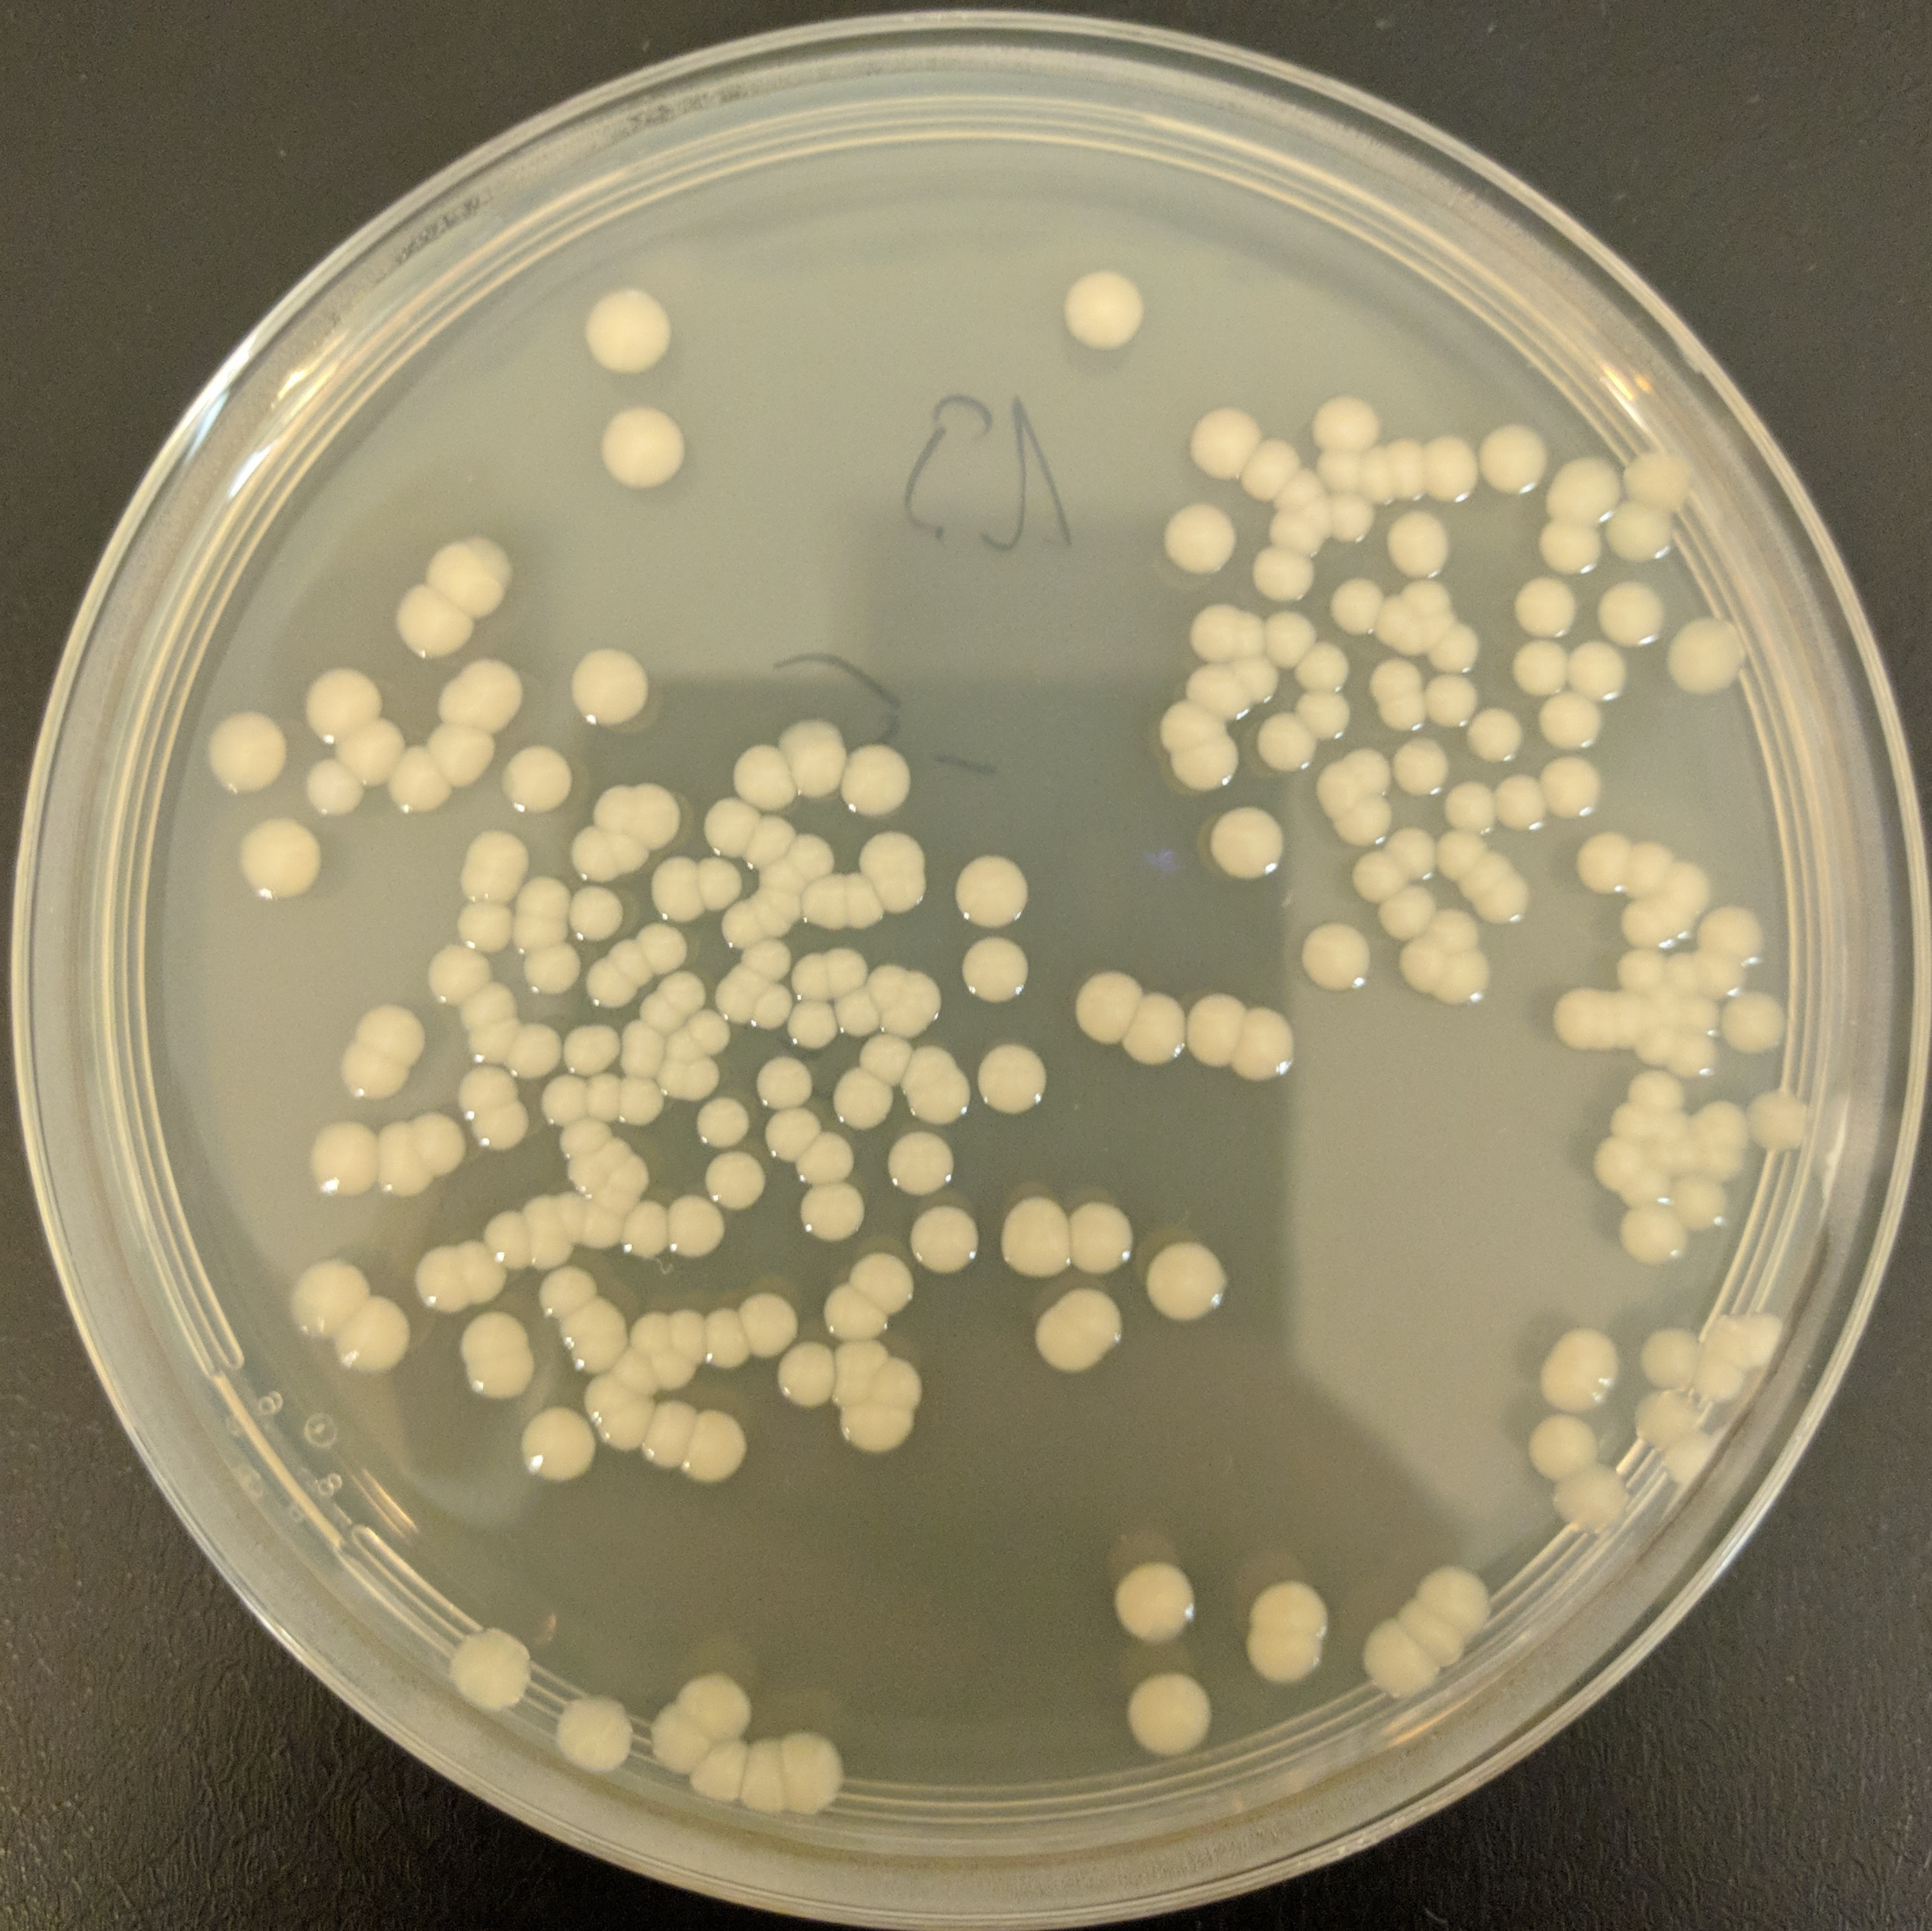sp11: (258, 1248, 387, 1351), (359, 1098, 472, 1210), (553, 633, 670, 739), (1032, 1280, 1142, 1392), (1128, 1220, 1237, 1332), (299, 1112, 391, 1236), (1660, 601, 1766, 707), (576, 283, 688, 384), (498, 1404, 615, 1500), (590, 393, 696, 493), (764, 702, 864, 808), (1206, 792, 1301, 904), (285, 656, 399, 748), (486, 729, 583, 835), (548, 1673, 642, 1782), (992, 1176, 1084, 1287), (1110, 1668, 1220, 1759), (1290, 907, 1393, 1004), (226, 803, 327, 900), (417, 529, 523, 621), (440, 1303, 546, 1395), (444, 1607, 527, 1724), (1055, 256, 1156, 352), (417, 653, 532, 736), (1533, 1321, 1624, 1423), (1110, 1549, 1206, 1646), (767, 1728, 864, 1823), (714, 725, 815, 817), (682, 1390, 769, 1496), (831, 734, 924, 831), (1186, 976, 1260, 1095), (1356, 1607, 1444, 1706), (198, 702, 292, 794), (841, 1234, 933, 1328), (946, 852, 1043, 941), (339, 988, 437, 1077), (1059, 962, 1151, 1054), (548, 1289, 638, 1383), (1241, 1607, 1335, 1696), (1154, 492, 1243, 585), (1584, 569, 1676, 658), (672, 1653, 755, 1751), (691, 1139, 778, 1231), (1379, 716, 1462, 812), (371, 734, 445, 840), (435, 1220, 514, 1319), (969, 1034, 1057, 1123), (1055, 1199, 1142, 1287), (1186, 407, 1274, 493), (1419, 1554, 1502, 1646), (1538, 1448, 1630, 1531), (426, 716, 506, 812), (1474, 419, 1557, 508), (854, 824, 924, 927), (1396, 930, 1471, 1027), (1529, 739, 1612, 826), (1552, 442, 1630, 534), (626, 1286, 696, 1386), (1506, 569, 1607, 640), (507, 1179, 583, 1273), (1122, 976, 1197, 1072), (949, 934, 1043, 1008), (1218, 999, 1297, 1086), (451, 824, 529, 912), (444, 1084, 541, 1155), (781, 1176, 870, 1254), (640, 843, 714, 935), (827, 1395, 924, 1464), (1628, 428, 1699, 522), (863, 957, 942, 1040), (813, 1075, 914, 1141), (394, 575, 472, 658), (905, 1199, 988, 1277), (741, 1043, 827, 1118), (882, 1126, 970, 1199), (504, 939, 596, 1008), (1160, 734, 1251, 803), (553, 1020, 633, 1100), (1723, 1294, 1794, 1383), (1237, 1567, 1338, 1629), (295, 752, 373, 831), (1515, 1408, 1593, 1487), (417, 934, 500, 1008), (327, 1040, 414, 1109), (1255, 500, 1343, 568), (831, 1330, 905, 1409), (1460, 861, 1543, 932), (1706, 988, 1789, 1059), (732, 879, 801, 964), (1304, 387, 1389, 456), (449, 1003, 523, 1080), (636, 1381, 705, 1464), (1151, 693, 1234, 762), (1697, 893, 1766, 976), (1570, 824, 1644, 900), (1319, 783, 1398, 854), (1322, 575, 1407, 640), (417, 1231, 477, 1323), (1547, 985, 1621, 1059), (341, 1307, 414, 1383), (1379, 506, 1457, 576), (1738, 1089, 1817, 1158), (1616, 1199, 1688, 1273), (1191, 612, 1269, 681), (1616, 511, 1693, 580), (649, 1043, 737, 1103), (1388, 584, 1476, 644), (1379, 824, 1453, 895), (774, 1339, 843, 1415), (559, 1121, 638, 1187), (1529, 697, 1612, 759), (1610, 1011, 1688, 1077), (1419, 656, 1476, 744), (548, 884, 624, 950), (695, 789, 765, 858), (1538, 515, 1607, 585), (1287, 684, 1358, 753), (1506, 633, 1575, 704), (1250, 607, 1324, 672), (1637, 1317, 1702, 1392), (686, 1736, 751, 1811), (1570, 638, 1639, 707), (1593, 1130, 1662, 1199), (1688, 1103, 1762, 1167), (1442, 948, 1508, 1019), (1674, 1171, 1739, 1241), (629, 771, 688, 849), (622, 1188, 679, 1268), (1616, 888, 1679, 958), (1356, 653, 1430, 713), (1423, 428, 1488, 493), (1255, 711, 1320, 776), (1656, 1422, 1722, 1487), (562, 820, 640, 875), (666, 1192, 730, 1257), (1437, 771, 1502, 835), (751, 1280, 801, 1360), (1605, 1095, 1670, 1155), (1184, 667, 1244, 729), (1624, 838, 1685, 900), (622, 1015, 672, 1088), (1471, 704, 1527, 764), (451, 895, 513, 950), (1246, 552, 1312, 603), (506, 911, 574, 958), (1651, 859, 1713, 912), (1665, 1017, 1716, 1080), (514, 1017, 562, 1084), (801, 1132, 861, 1185), (649, 911, 702, 971), (1290, 635, 1349, 688), (905, 1080, 970, 1126), (702, 1301, 748, 1367), (714, 971, 767, 1027), (1377, 888, 1437, 937), (825, 1286, 887, 1333), (1495, 773, 1541, 836), (1633, 1386, 1688, 1439), (656, 967, 709, 1022), (824, 939, 873, 997), (589, 766, 636, 826), (854, 1031, 910, 1080), (582, 1070, 628, 1130), (693, 1100, 755, 1144), (1437, 828, 1488, 881), (1660, 948, 1704, 1008), (785, 1001, 834, 1054), (1386, 431, 1421, 504), (1630, 1070, 1690, 1112), (589, 960, 638, 1011), (801, 872, 847, 927), (1253, 435, 1297, 492), (536, 1268, 587, 1316), (741, 980, 792, 1027), (765, 1111, 815, 1158), (1699, 951, 1745, 1003), (619, 1079, 663, 1132), (610, 937, 654, 990), (907, 1043, 963, 1084), (1315, 444, 1363, 492), (873, 1360, 923, 1406), (1614, 948, 1663, 994), (1347, 744, 1393, 794), (735, 944, 799, 980), (700, 856, 742, 909), (1352, 852, 1400, 898), (638, 985, 679, 1038), (688, 1010, 734, 1056), (523, 865, 569, 911), (1425, 907, 1476, 948), (1308, 759, 1352, 805), (795, 831, 829, 889), (1327, 504, 1375, 545), (790, 951, 827, 1003), (1361, 439, 1393, 497), (751, 815, 790, 863), (582, 1199, 615, 1254), (546, 1079, 583, 1128), (1234, 663, 1274, 707), (834, 996, 879, 1034), (753, 858, 795, 888)
